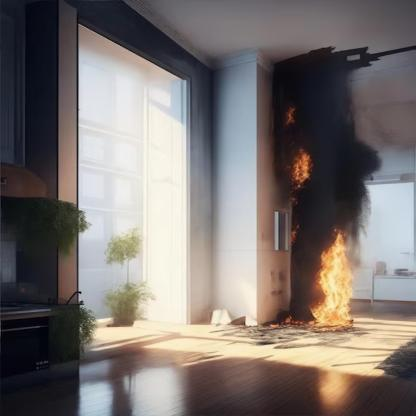fire: (306, 232, 356, 331), (290, 150, 312, 186)
smoke: (274, 62, 390, 326)
